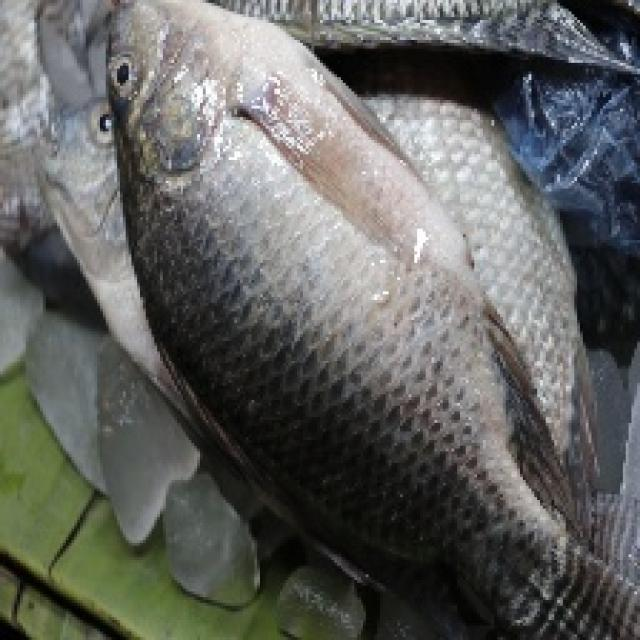Fresh: (83, 2, 558, 528)
